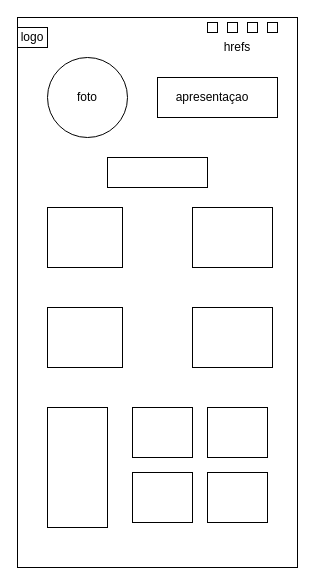
Image size: 315x585. Some labels were removed from this diagram. The centre of each missing label's shape, as x and y in pixels:
"projetos" goes at point 77,467.
"topicos sobre mim" goes at point 157,172.
